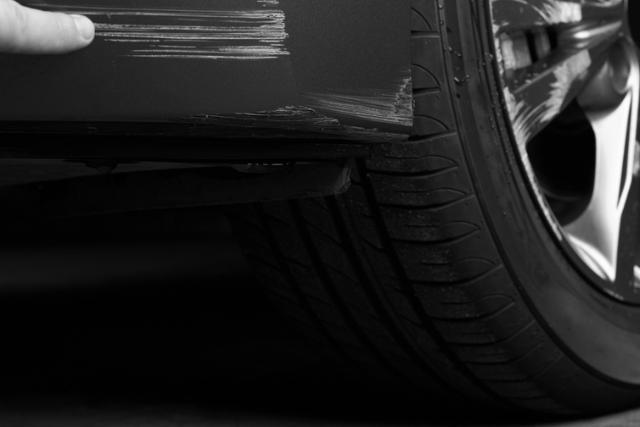Bumper: (0, 0, 408, 140)
